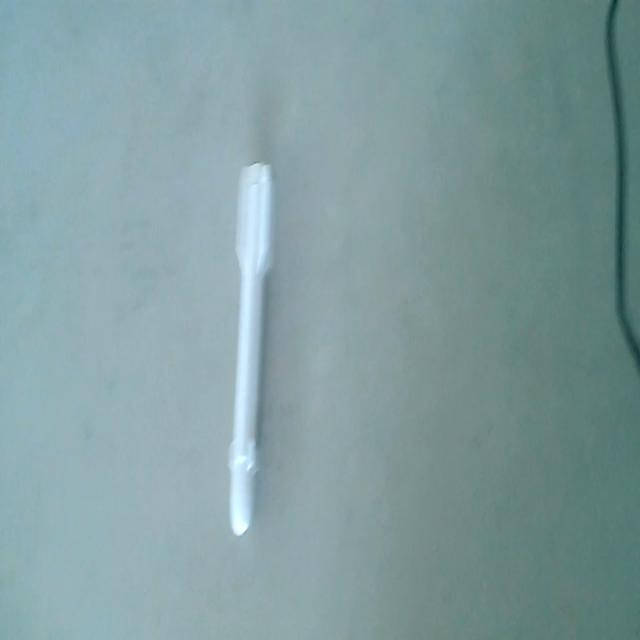Rocket: (232, 156, 277, 540)
